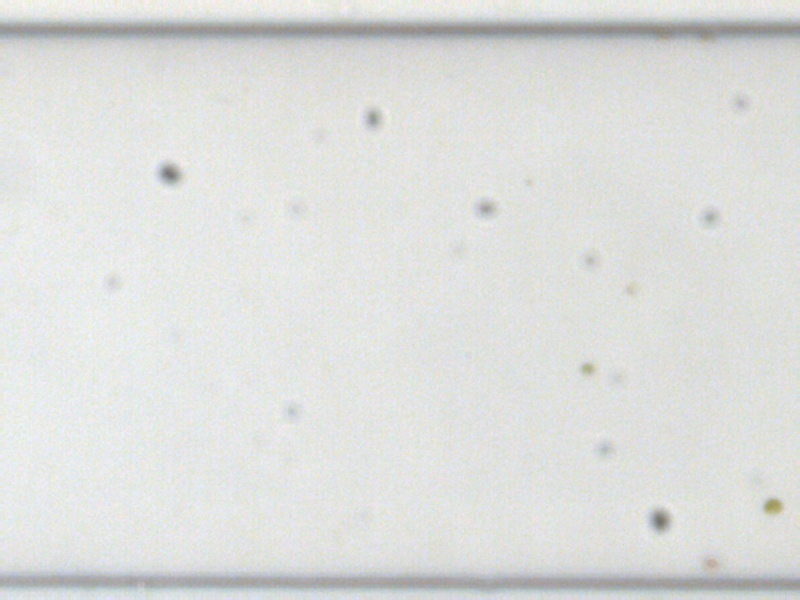Chlorella: (761, 498, 783, 514), (702, 552, 719, 569), (579, 362, 593, 378)
